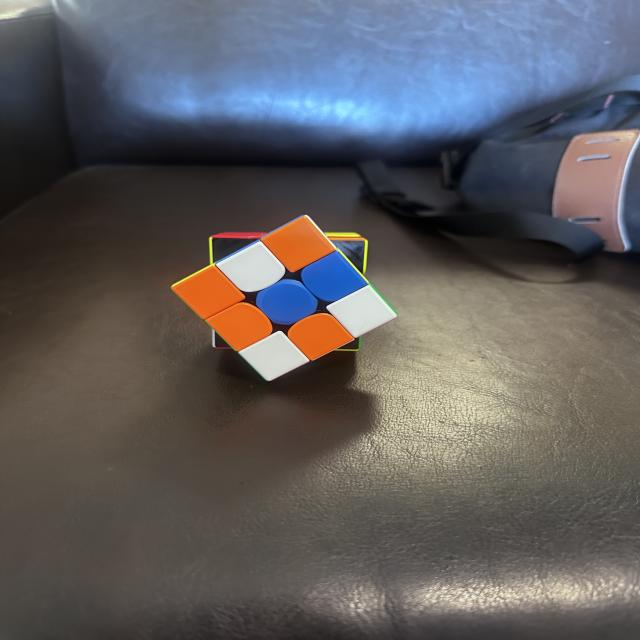sticker: (259, 214, 334, 274), (324, 284, 399, 340), (171, 264, 244, 321), (214, 239, 286, 293), (236, 331, 310, 382), (205, 301, 275, 352), (299, 251, 366, 303), (285, 312, 354, 361), (254, 278, 318, 326)
